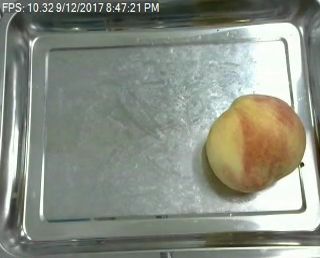Peach: (204, 93, 306, 193)
